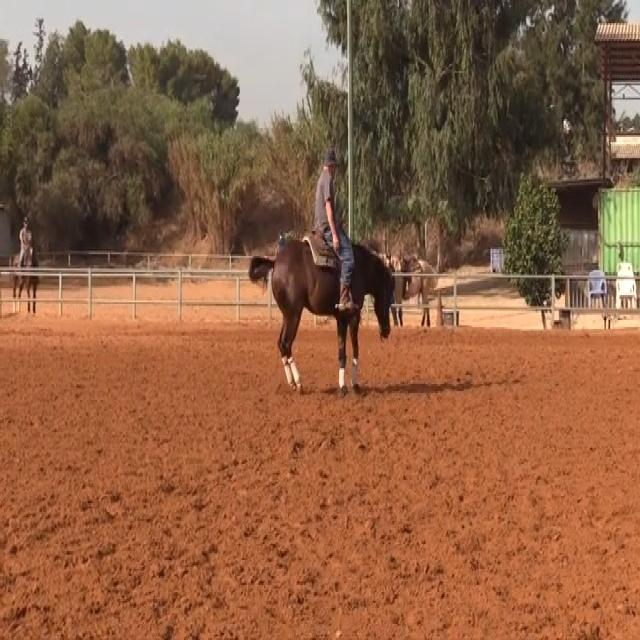horse: (247, 231, 396, 397)
